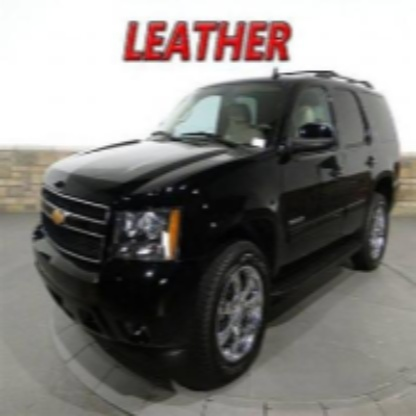Vehicle: (31, 68, 405, 379)
